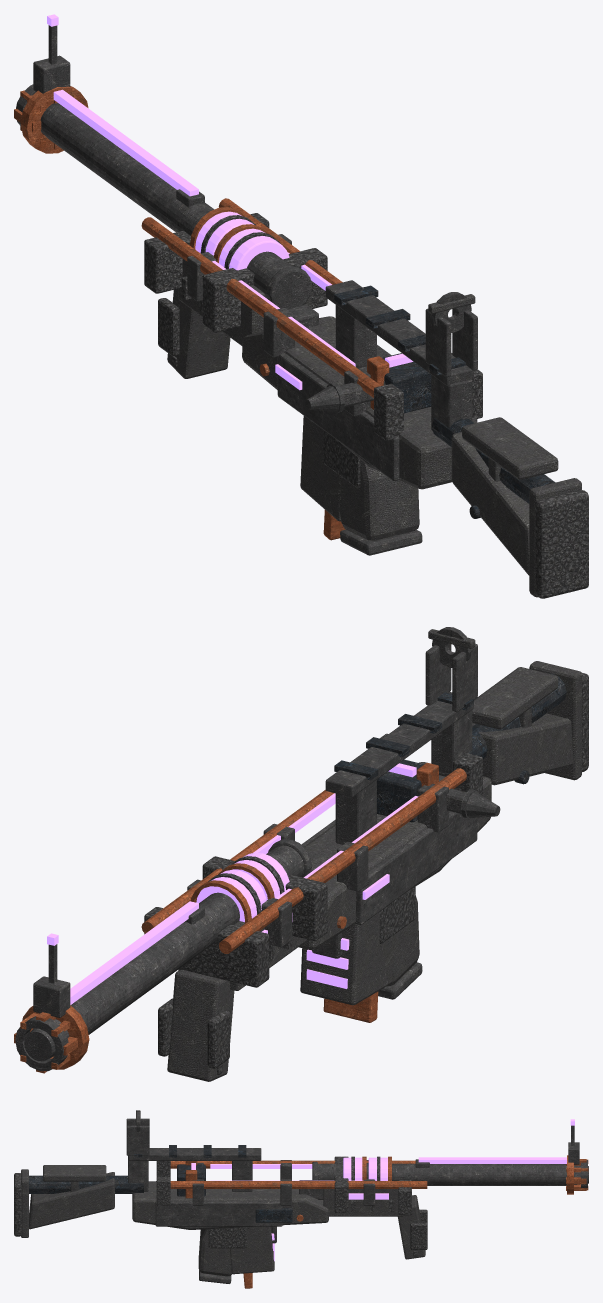
File: pike.glb
3 views of the same model, one above another, from view 1: azimuth 30°, elevation 25°; view 2: azimuth 150°, elevation 25°; view 3: azimuth 270°, elevation 25° (orthographic). The views are drawn at different scales.
Parts seen in each view (by area): view 1: body | gunmetal, body | dark polymer, body | rubber, body | copper rail, body | arc glow, factory-optic | gunmetal, body | blued steel, mag | dark polymer, bolt | blued steel, bolt | gunmetal; view 2: body | gunmetal, body | dark polymer, body | rubber, body | copper rail, body | arc glow, factory-optic | gunmetal, mag | dark polymer, body | blued steel, bolt | blued steel, bolt | gunmetal, mag | arc glow, mag | copper rail; view 3: body | gunmetal, body | dark polymer, body | rubber, body | copper rail, body | arc glow, body | blued steel, mag | dark polymer, factory-optic | gunmetal, bolt | blued steel, bolt | copper rail.
Boxes of the visible parts, <box> form: body | gunmetal: <box>16,84,501,555</box>; body | dark polymer: <box>167,244,581,597</box>; body | rubber: <box>144,213,588,598</box>; body | copper rail: <box>14,86,380,397</box>; body | arc glow: <box>53,89,355,390</box>; factory-optic | gunmetal: <box>33,25,477,377</box>; body | blued steel: <box>334,285,555,518</box>; mag | dark polymer: <box>300,416,341,521</box>; bolt | blued steel: <box>382,353,431,413</box>; bolt | gunmetal: <box>305,381,385,413</box>; body | gunmetal: <box>15,692,531,1071</box>; body | dark polymer: <box>167,661,581,1081</box>; body | rubber: <box>144,673,588,1074</box>; body | copper rail: <box>14,768,466,1073</box>; body | arc glow: <box>70,793,418,1004</box>; factory-optic | gunmetal: <box>33,627,477,1017</box>; mag | dark polymer: <box>300,912,394,1005</box>; body | blued steel: <box>334,673,566,784</box>; bolt | blued steel: <box>377,759,423,822</box>; bolt | gunmetal: <box>446,788,500,819</box>; mag | arc glow: <box>306,938,349,988</box>; mag | copper rail: <box>323,991,378,1022</box>; body | gunmetal: <box>70,1148,588,1283</box>; body | dark polymer: <box>21,1165,425,1276</box>; body | rubber: <box>14,1156,427,1256</box>; body | copper rail: <box>170,1155,588,1221</box>; body | arc glow: <box>210,1157,566,1199</box>; body | blued steel: <box>29,1145,292,1222</box>; mag | dark polymer: <box>229,1226,274,1274</box>; factory-optic | gunmetal: <box>126,1111,579,1164</box>; bolt | blued steel: <box>177,1164,205,1196</box>; bolt | copper rail: <box>185,1161,197,1198</box>.
Size of the model in its own units: 0.165 by 0.3263 by 0.995.
7 materials, 6 textured.
